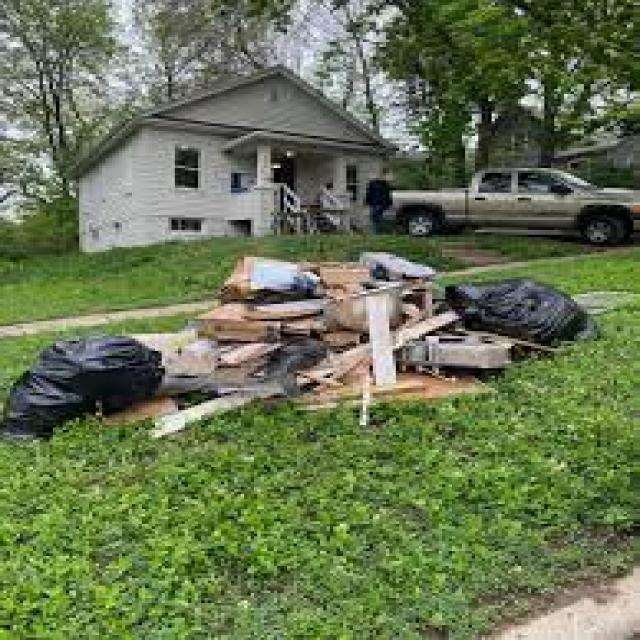House: (68, 64, 398, 247)
